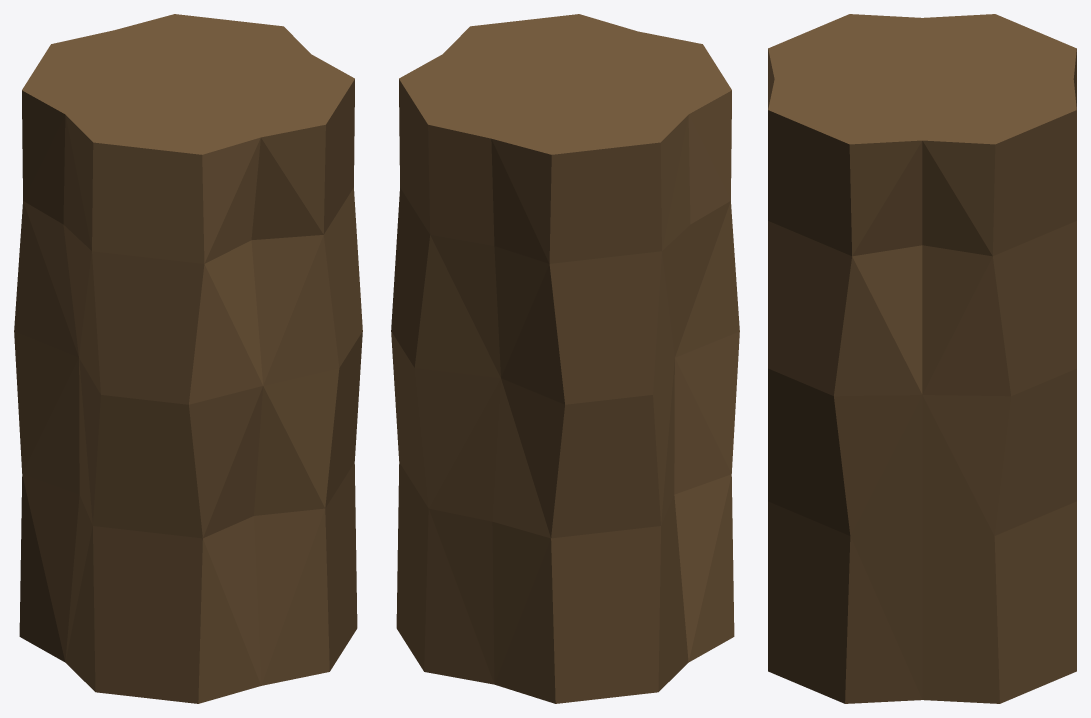
The model's file is Section_2.glb.
3 views of the same model, side by side, from view 1: azimuth 30°, elevation 25°; view 2: azimuth 150°, elevation 25°; view 3: azimuth 270°, elevation 25° (orthographic). The views are drawn at different scales.
Parts seen in each view (by area): view 1: Section; view 2: Section; view 3: Section.
Boxes of the visible parts, left/top/right/bottom form: Section: left=14, top=14, right=362, bottom=703; Section: left=391, top=14, right=739, bottom=703; Section: left=768, top=14, right=1076, bottom=703.
Bounding box in the file's own units: 1.8 × 3.6 × 1.8.
